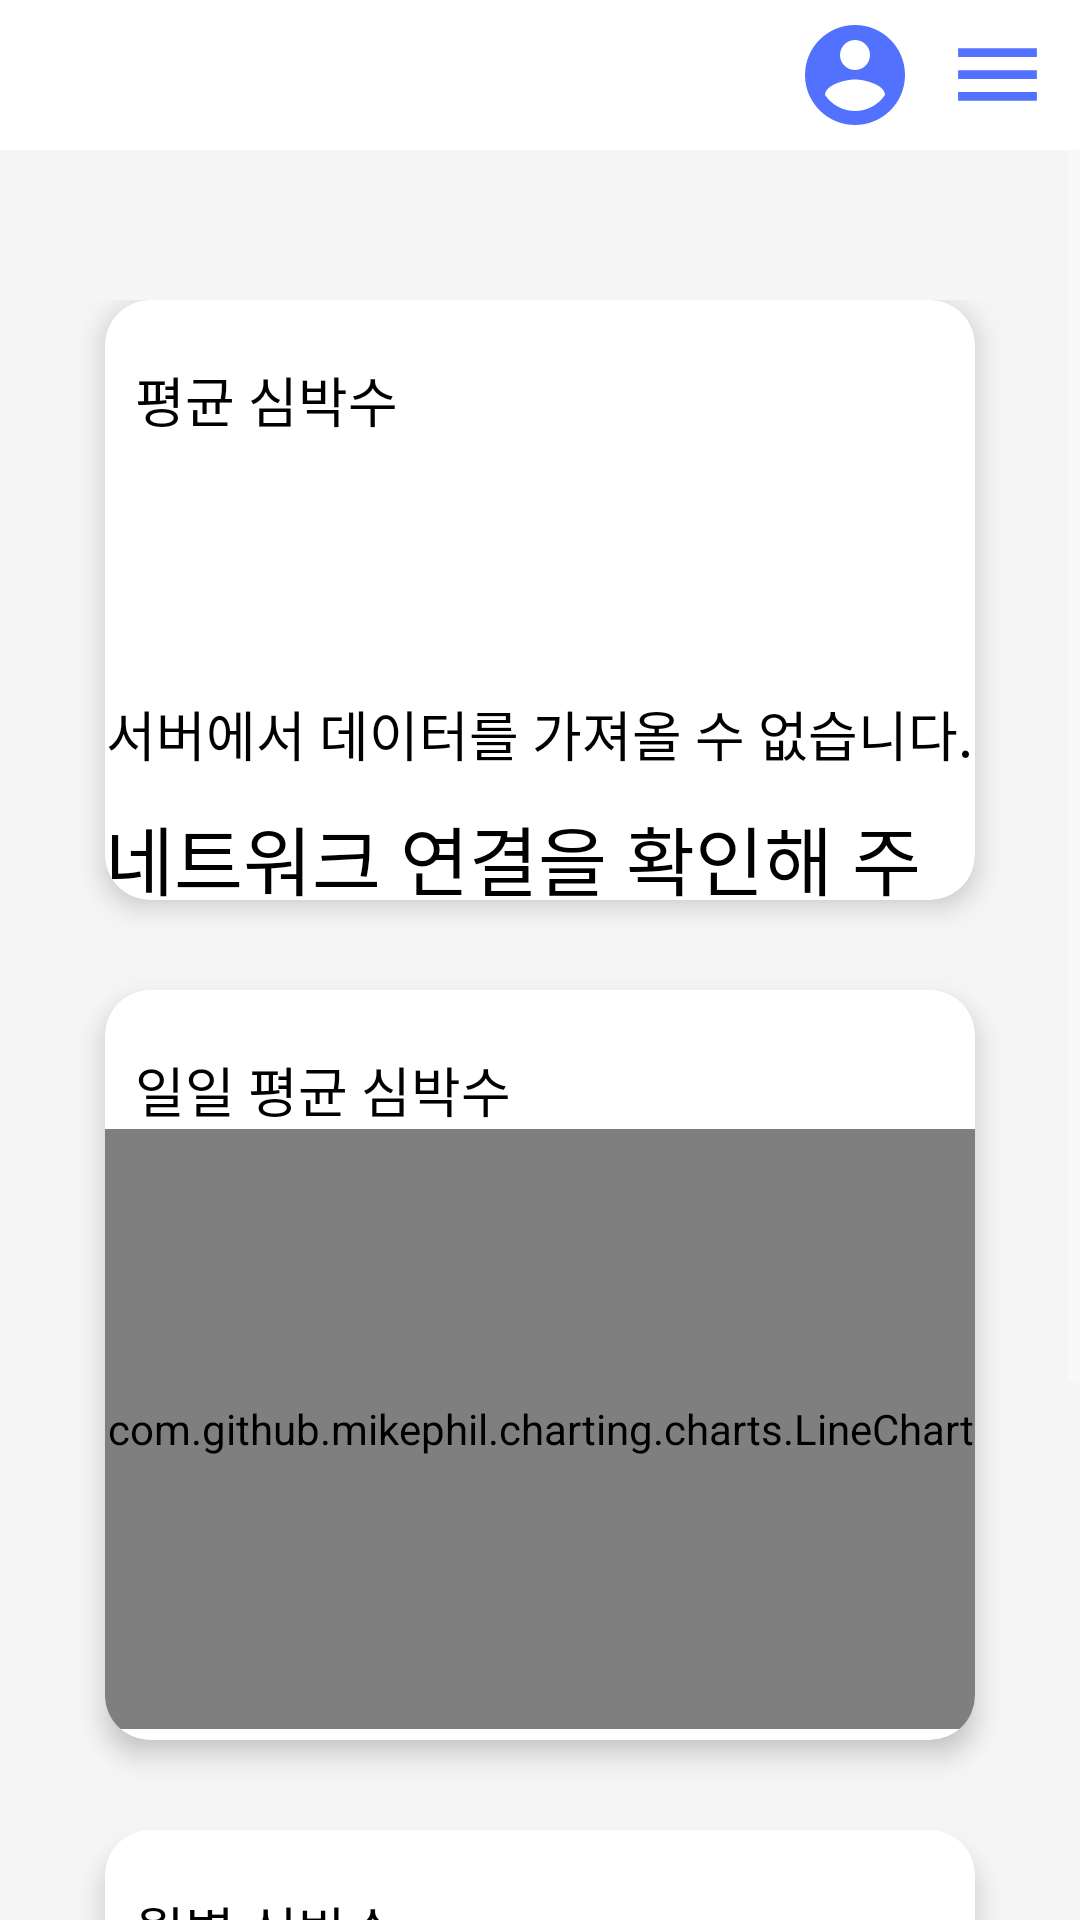

Named icons in this screenshot (1080×1920) and their centers, (x=x, y=y):
account circle: (x=855, y=75)
menu: (x=997, y=74)
